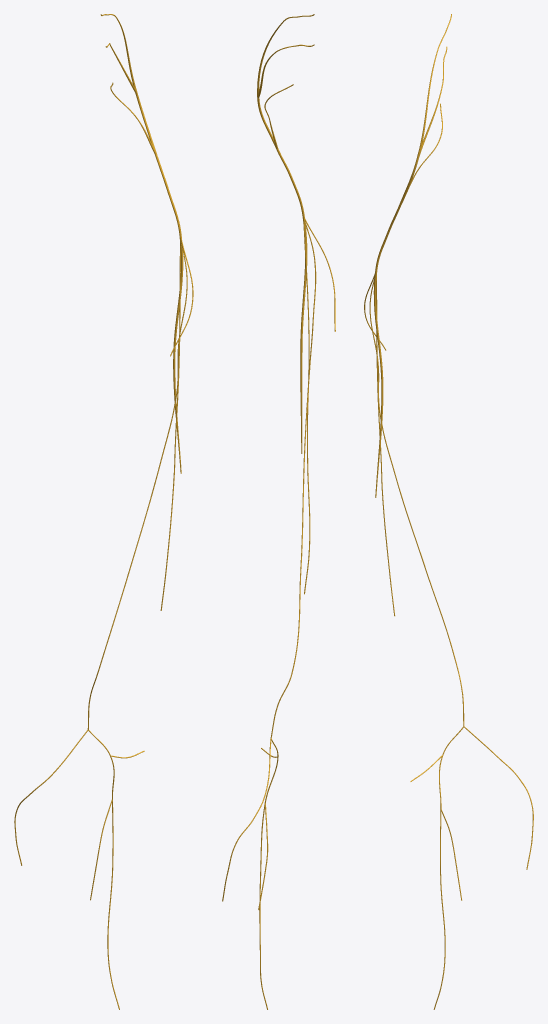
Rendered from nervoso-femoral-nerve-l.glb.
3 renders of one model, left to right at view 1: azimuth 90°, elevation 25°; view 2: azimuth 150°, elevation 25°; view 3: azimuth 270°, elevation 25°, orthographic. The views are drawn at different scales.
Parts seen in each view (by area): view 1: Saphenous nerve.l, Femoral nerve.l, Anterior cutaneous branches of femoral nerve.l; view 2: Saphenous nerve.l, Femoral nerve.l, Anterior cutaneous branches of femoral nerve.l; view 3: Saphenous nerve.l, Femoral nerve.l, Anterior cutaneous branches of femoral nerve.l.
Boxes of the visible parts, x1,y1,x2,y2 form: Saphenous nerve.l: (14, 241, 187, 1009); Femoral nerve.l: (100, 14, 183, 473); Anterior cutaneous branches of femoral nerve.l: (160, 242, 180, 610); Saphenous nerve.l: (222, 221, 316, 1009); Femoral nerve.l: (257, 14, 314, 453); Anterior cutaneous branches of femoral nerve.l: (303, 222, 310, 594); Saphenous nerve.l: (369, 277, 533, 1009); Femoral nerve.l: (373, 14, 451, 497); Anterior cutaneous branches of femoral nerve.l: (376, 275, 395, 616).
Size of the model in its own units: 0.0773 by 0.9968 by 0.1581.
